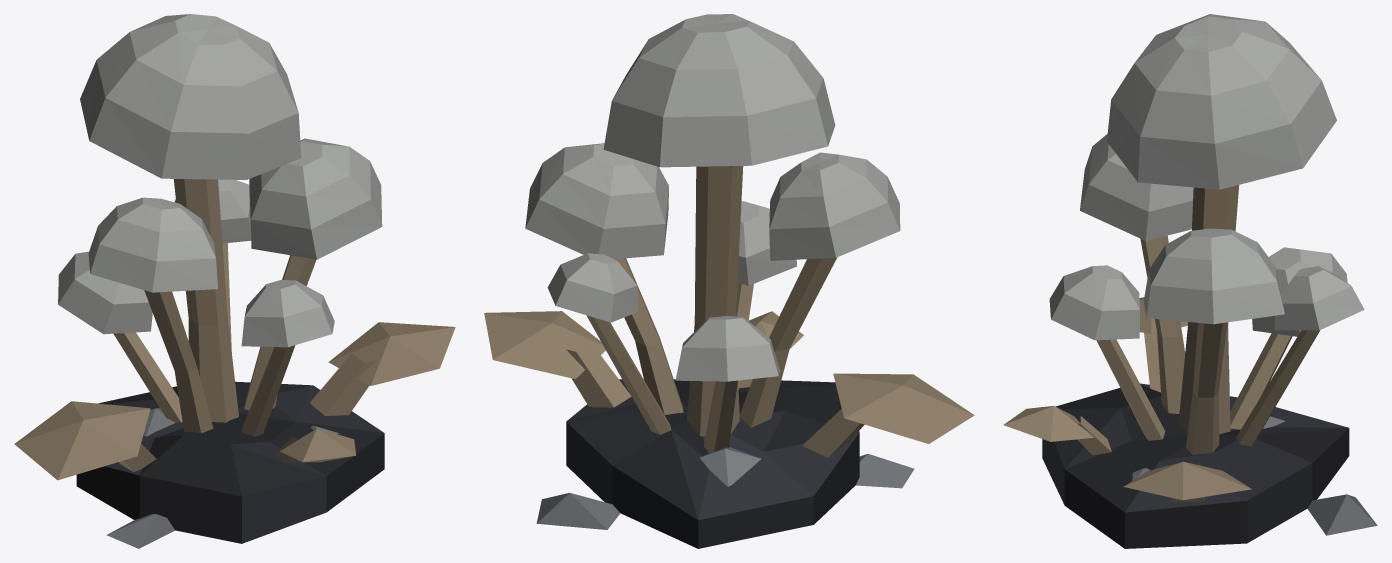
The model's file is mushroom-cluster-18dc1d.glb.
3 renders of one model, left to right at view 1: azimuth 30°, elevation 25°; view 2: azimuth 150°, elevation 25°; view 3: azimuth 270°, elevation 25°, orthographic. The views are drawn at different scales.
Parts seen in each view (by area): view 1: clump, pick-mesh; view 2: clump, pick-mesh; view 3: clump, pick-mesh.
Part boxes in pixels (x1,y1,x2,y2): clump: [14, 138, 455, 548]; pick-mesh: [80, 14, 301, 422]; clump: [484, 143, 974, 548]; pick-mesh: [603, 14, 835, 436]; clump: [1003, 134, 1377, 548]; pick-mesh: [1107, 14, 1336, 434].
Size of the model in its own units: 0.3918 by 0.3849 by 0.2889.
